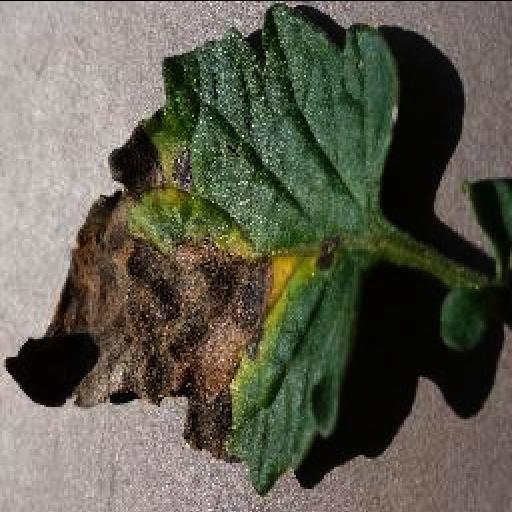disease_tomato: (6, 6, 402, 488)
